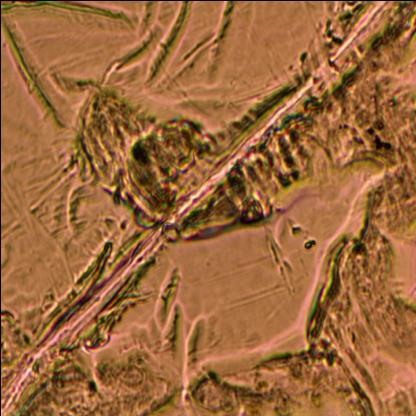Normal: (90, 0, 416, 233), (0, 300, 416, 416)
